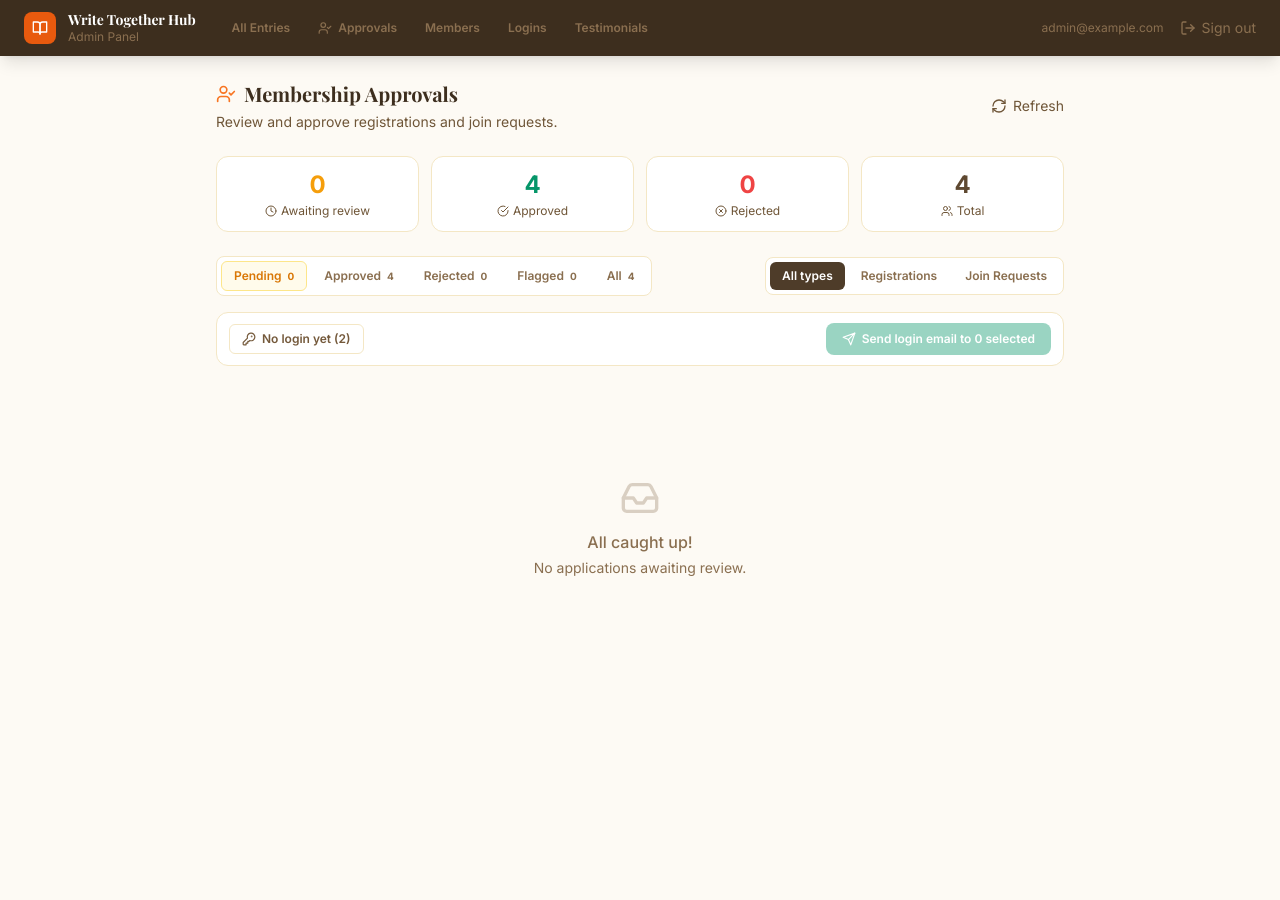
Test: AdminApprovals send login emails › sends nothing until the admin confirms, and Cancel sends nothing
Click the button "Approved 4" at (359, 276), box [311,261,407,291]
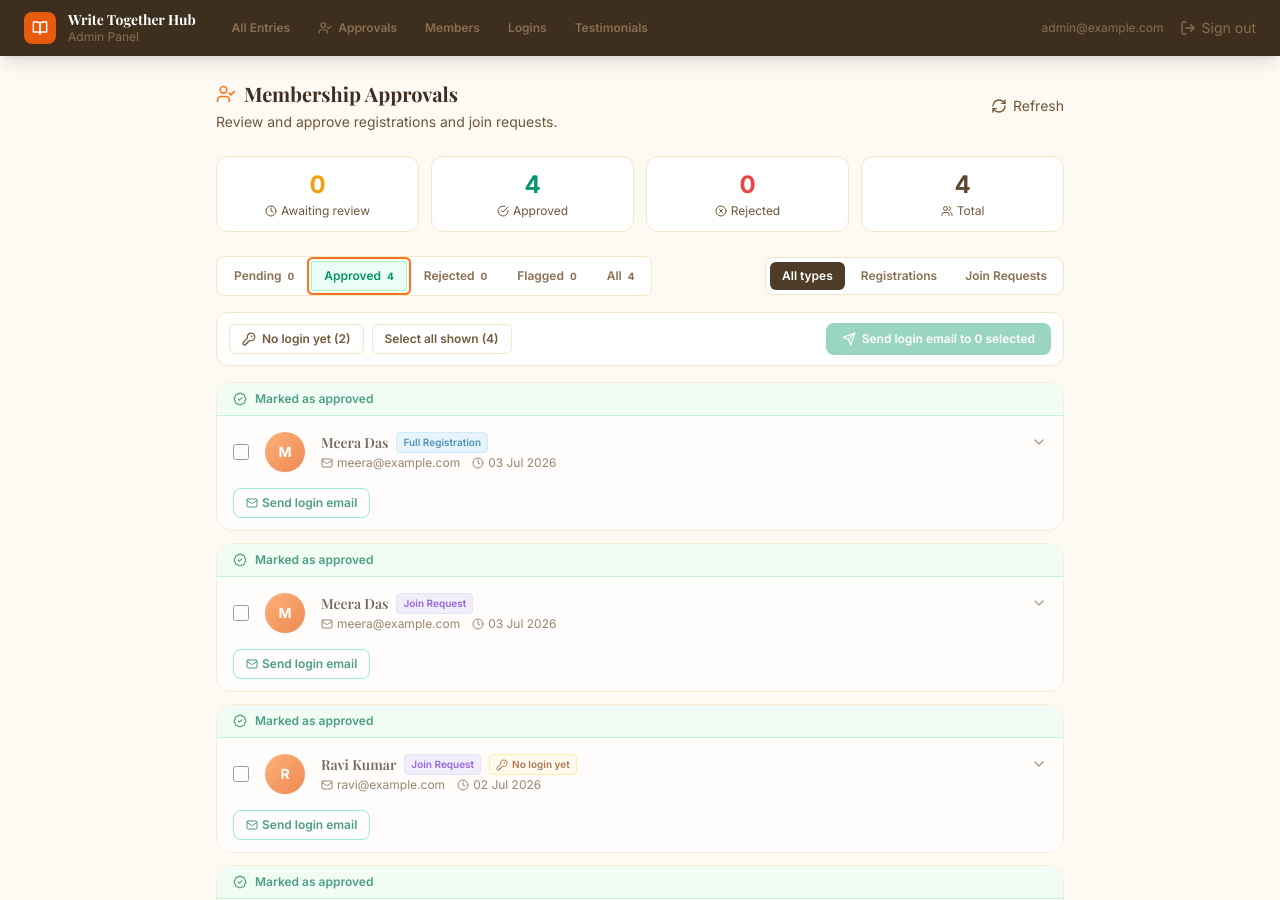
Click the button "No login yet (2)" at (296, 339), box [229,324,364,354]
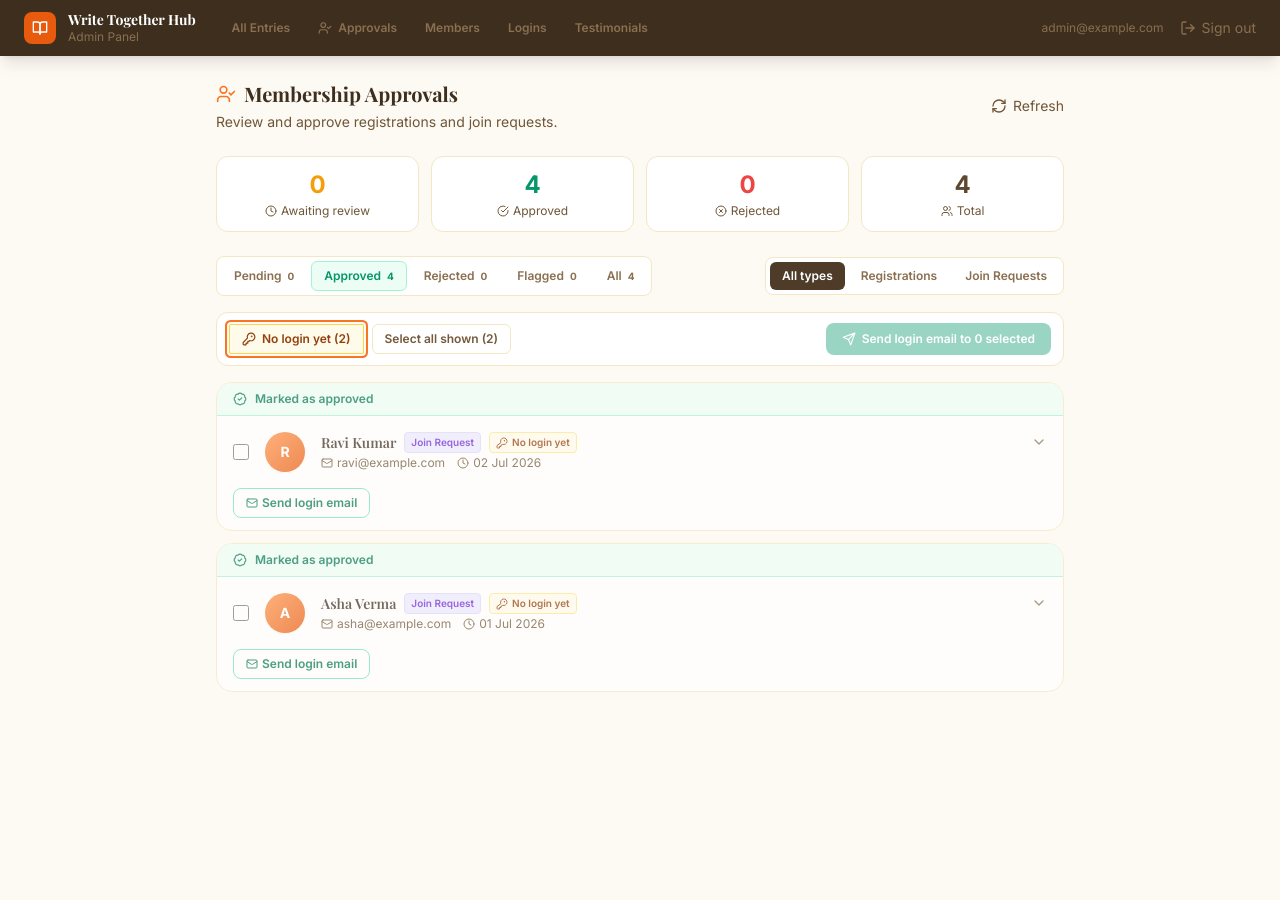
Click the button "Select all shown (2)" at (441, 339), box [372,324,511,354]
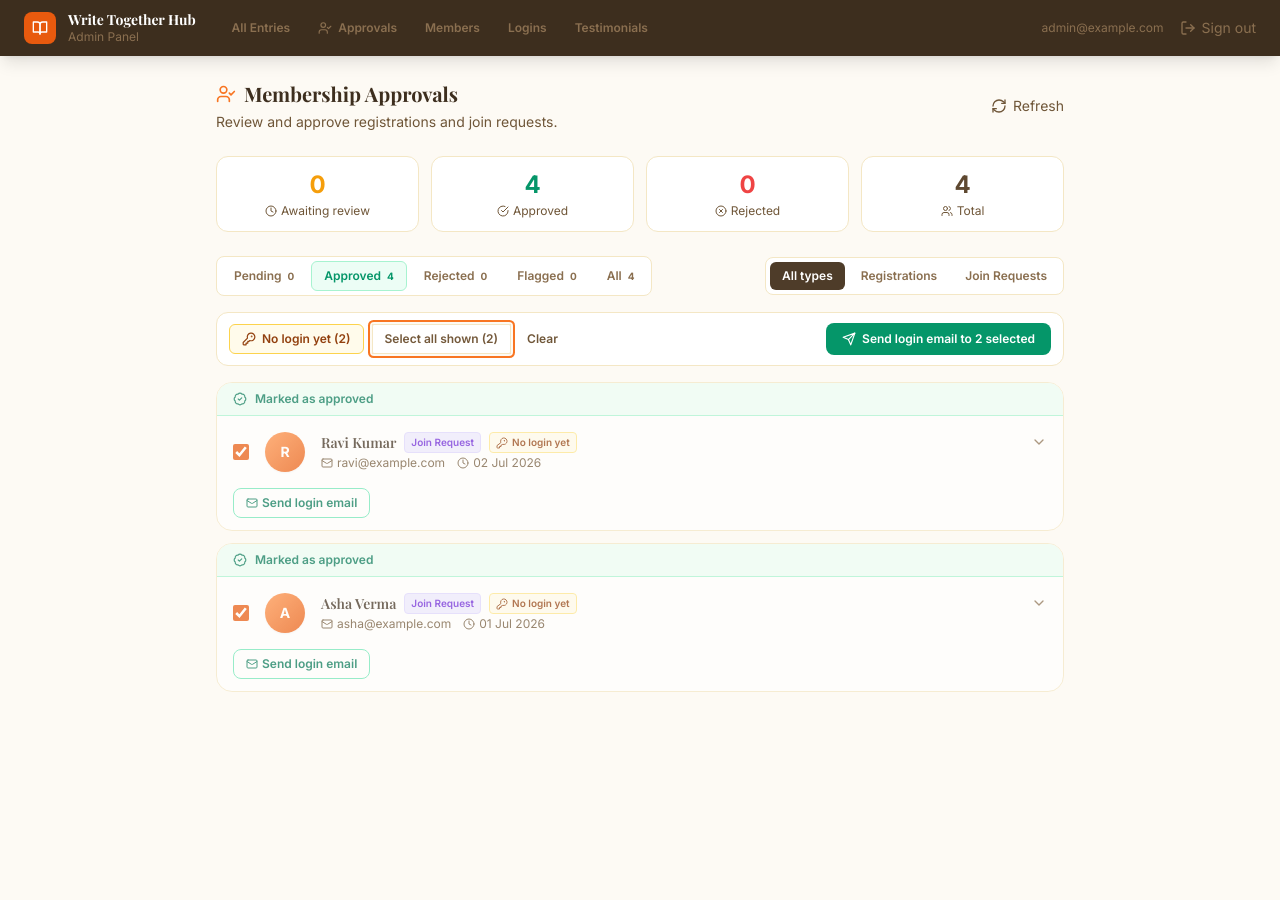
Click the button "Send login email to 2 selected" at (939, 339), box [826,323,1051,355]
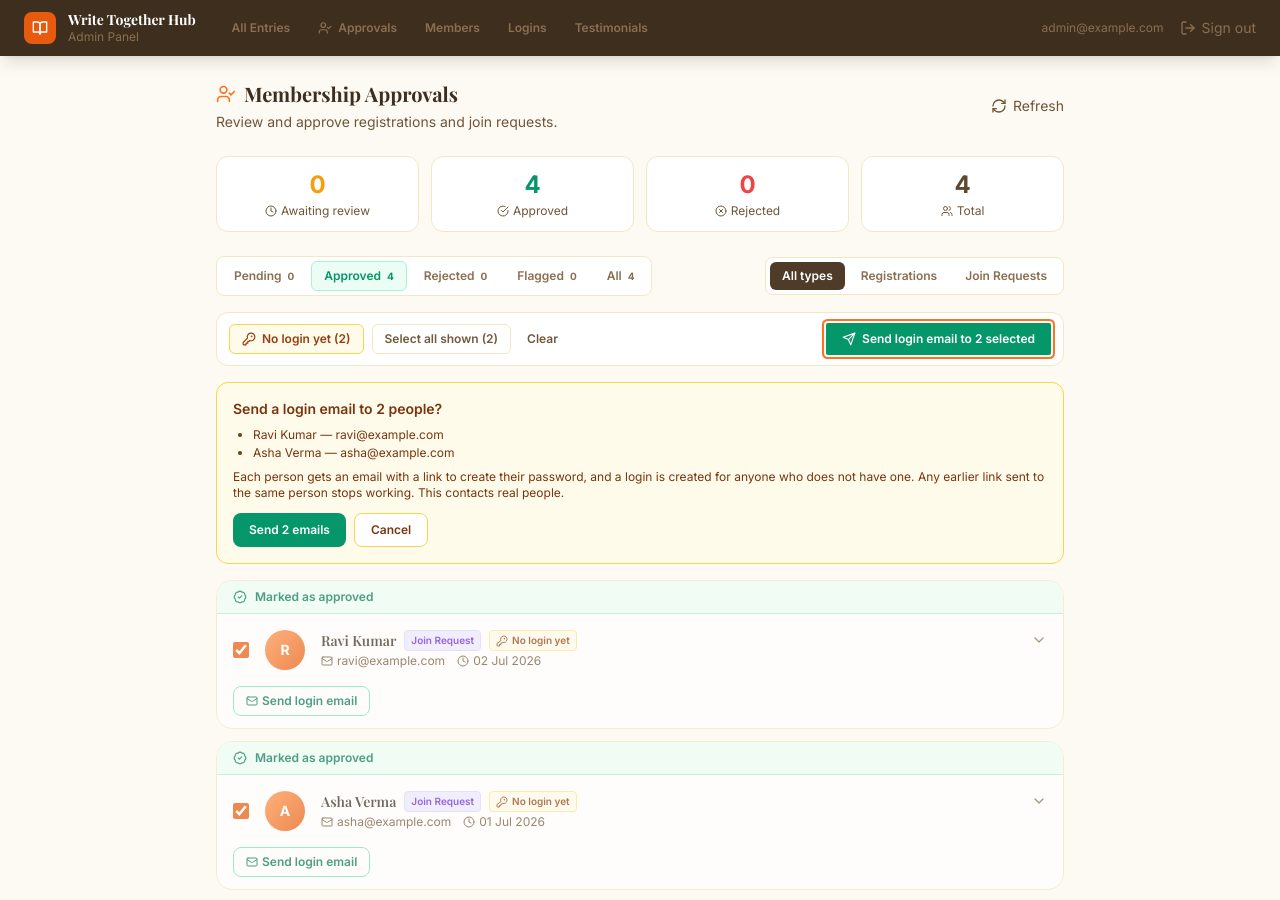
expect the dialog does not show "Meera Das": met, box [216,382,1064,564]
expect the dialog shows "Asha Verma": met, box [253,445,322,460]
expect the dialog shows "Ravi Kumar": met, box [253,427,317,442]
Click the button "Cancel" at (391, 530), box [354,513,428,547]
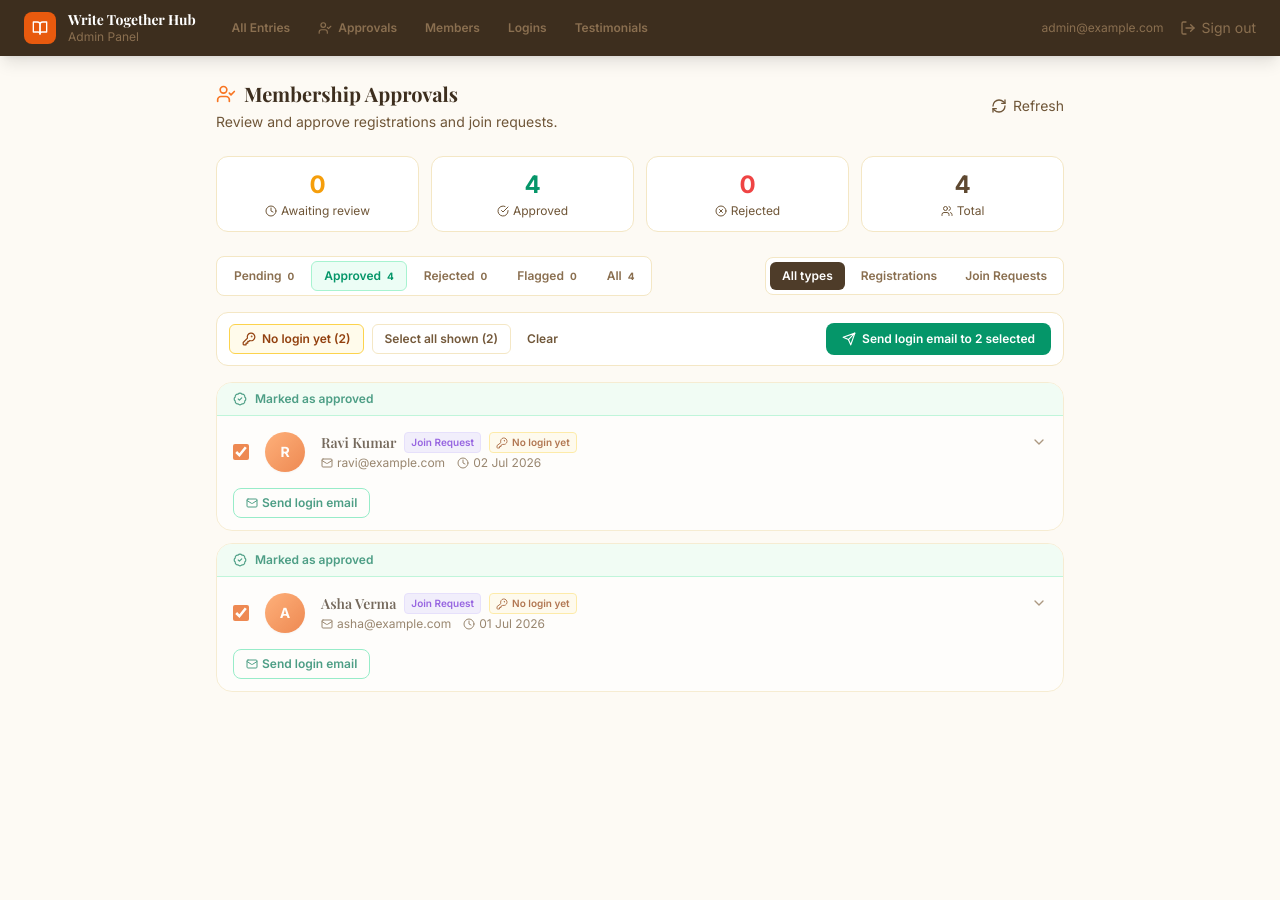
expect the dialog is gone: met
